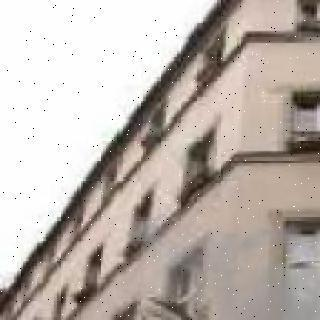smoke: (174, 270, 320, 320)
